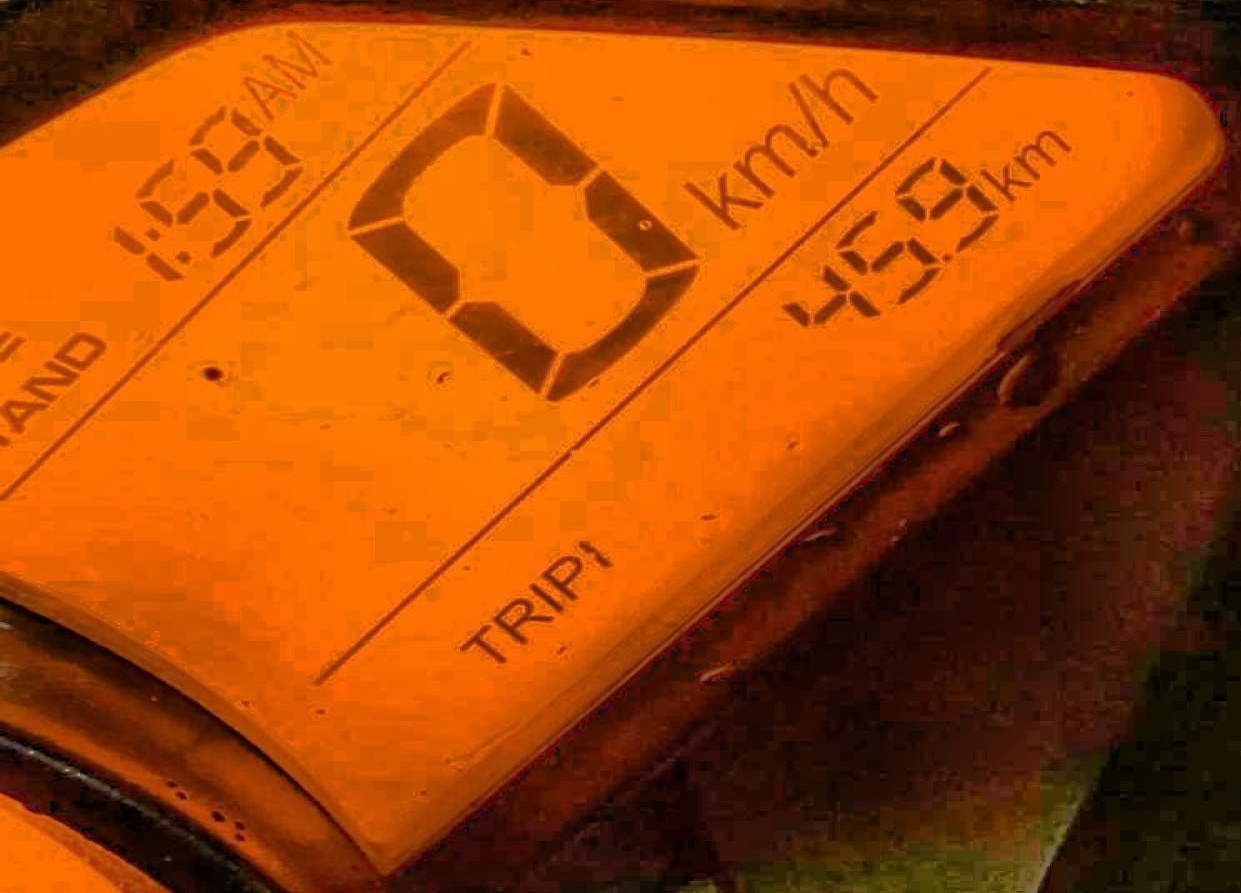-: (938, 248, 954, 265)
0: (345, 82, 695, 403)
1: (108, 226, 181, 282), (575, 538, 610, 567)
4: (778, 263, 876, 329)
5: (133, 158, 248, 257), (831, 210, 935, 303)
9: (183, 103, 298, 206), (890, 158, 996, 249)
X: (731, 122, 811, 197), (796, 63, 875, 122), (683, 173, 759, 229), (261, 28, 325, 88), (786, 79, 826, 147), (491, 597, 551, 642), (1013, 128, 1068, 177), (238, 73, 293, 120), (21, 360, 75, 401), (51, 332, 103, 369), (976, 163, 1028, 200), (143, 224, 191, 263), (540, 554, 580, 598), (458, 624, 504, 662), (0, 398, 45, 429), (528, 582, 561, 609)
